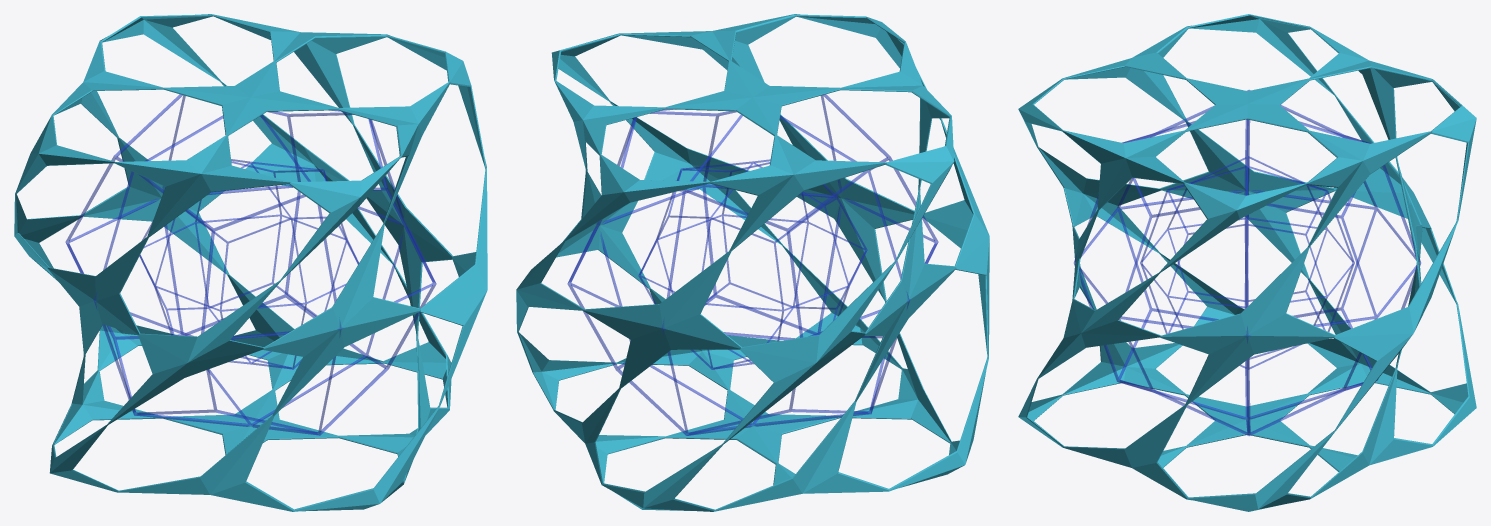
The model's file is Structure_subdiv2.fbx.
3 renders of one model, left to right at view 1: azimuth 30°, elevation 25°; view 2: azimuth 150°, elevation 25°; view 3: azimuth 270°, elevation 25°, orthographic. The views are drawn at different scales.
Visible parts, largest first — view 1: Cube.006, Cube.007, Cube.008; view 2: Cube.006, Cube.007, Cube.008; view 3: Cube.006, Cube.007, Cube.008.
Part boxes in pixels (<box>): Cube.006: <box>14,14,487,511</box>; Cube.007: <box>65,94,436,435</box>; Cube.008: <box>139,159,358,369</box>; Cube.006: <box>516,14,989,511</box>; Cube.007: <box>567,94,938,435</box>; Cube.008: <box>638,159,867,369</box>; Cube.006: <box>1018,14,1476,511</box>; Cube.007: <box>1074,90,1420,435</box>; Cube.008: <box>1140,156,1354,369</box>.
Bounding box in the file's own units: 264 × 202 × 264.
